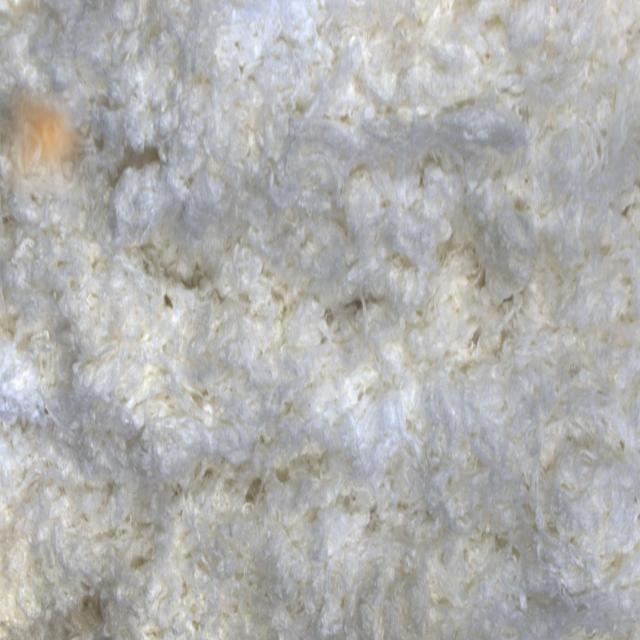dust: (2, 84, 91, 198)
